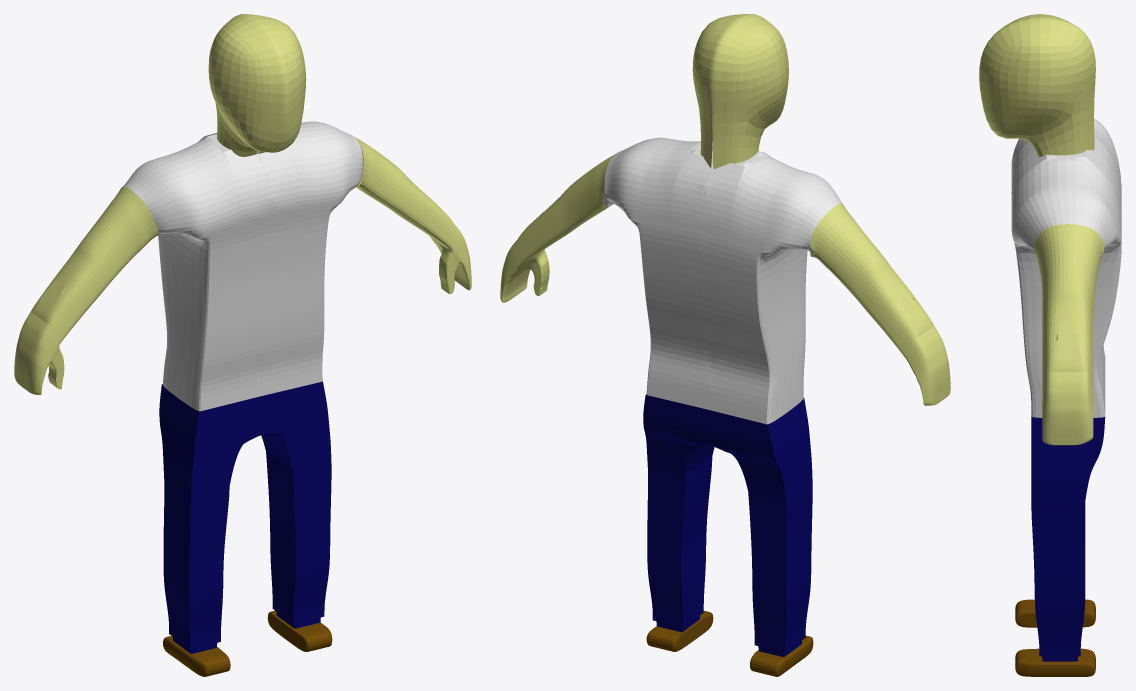
Rendered from lärare high poly med färger 1.fbx.
The picture shows the model from 3 angles, left to right: view 1: azimuth 30°, elevation 25°; view 2: azimuth 150°, elevation 25°; view 3: azimuth 270°, elevation 25°; orthographic projection.
Parts seen in each view (by area): view 1: Shirt, legs, Arms, Cube.003, Hand.002, Shoes; view 2: Shirt, legs, Cube.003, Arms, Hand.002, Shoes; view 3: Shirt, Cube.003, legs, Arms, Hand.002, Shoes.
Boxes of the visible parts, bbox=[...] form: Shirt: bbox=[123, 121, 362, 411]; legs: bbox=[159, 381, 331, 653]; Arms: bbox=[31, 137, 454, 343]; Cube.003: bbox=[208, 14, 306, 156]; Hand.002: bbox=[14, 224, 471, 394]; Shoes: bbox=[163, 610, 332, 676]; Shirt: bbox=[603, 137, 841, 424]; legs: bbox=[643, 394, 812, 656]; Cube.003: bbox=[692, 14, 788, 169]; Arms: bbox=[516, 154, 933, 357]; Hand.002: bbox=[500, 240, 950, 405]; Shoes: bbox=[646, 611, 813, 676]; Shirt: bbox=[1011, 119, 1121, 417]; Cube.003: bbox=[979, 14, 1095, 156]; legs: bbox=[1031, 357, 1105, 661]; Arms: bbox=[1034, 224, 1104, 384]; Hand.002: bbox=[1042, 371, 1093, 445]; Shoes: bbox=[1015, 599, 1095, 676].
Size of the model in its own units: 344 by 475 by 97.88.
